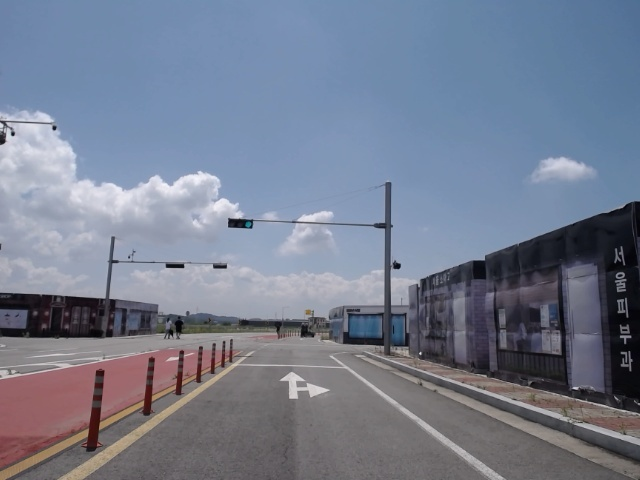green_3: (227, 217, 253, 227)
